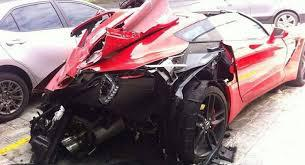doorouter-dent: (235, 30, 288, 104)
